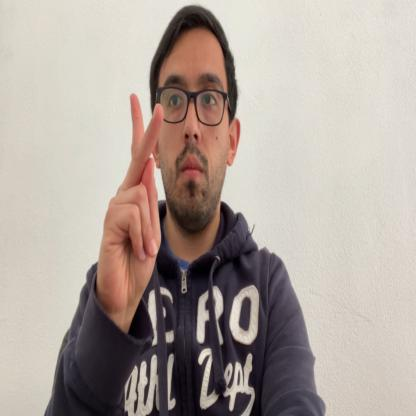P: (95, 92, 164, 323)
